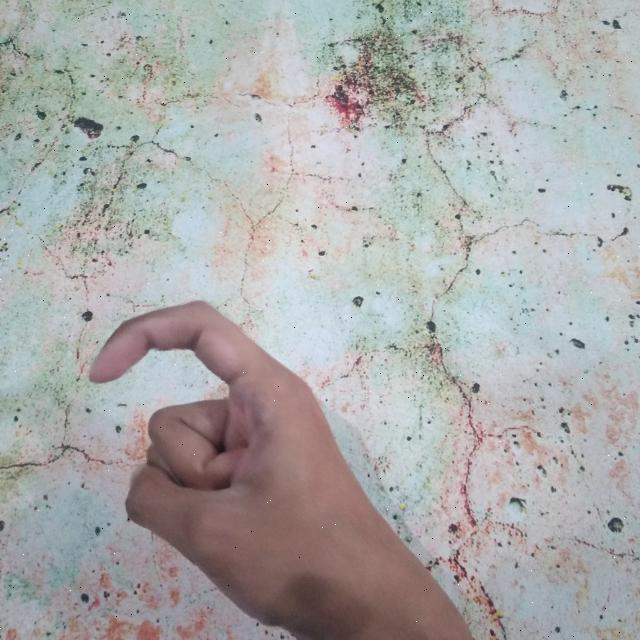X: (84, 293, 481, 640)
